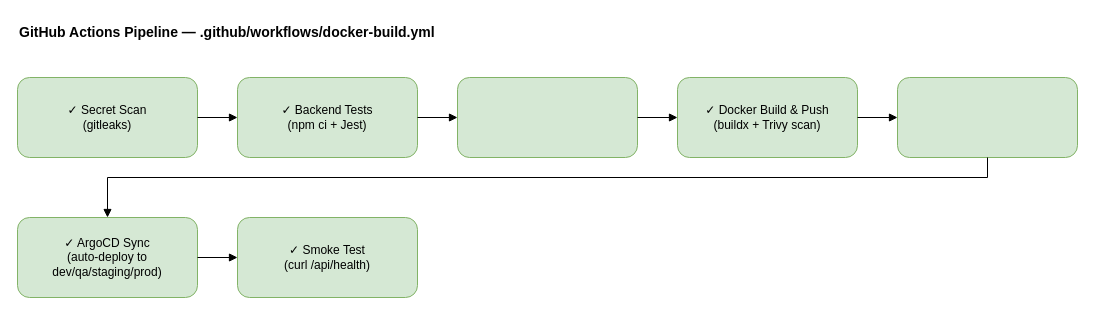
The diagram is 1095 pixels wide and 315 high, and some of its shapes have lost their labels. Each missing label, with the box of its shape:
✓ Frontend Build & Tests (Vite build + Jest): (456, 76, 638, 158)
✓ Patch K8s Overlay (GitOps commit to kustomization.yaml): (896, 76, 1078, 158)
